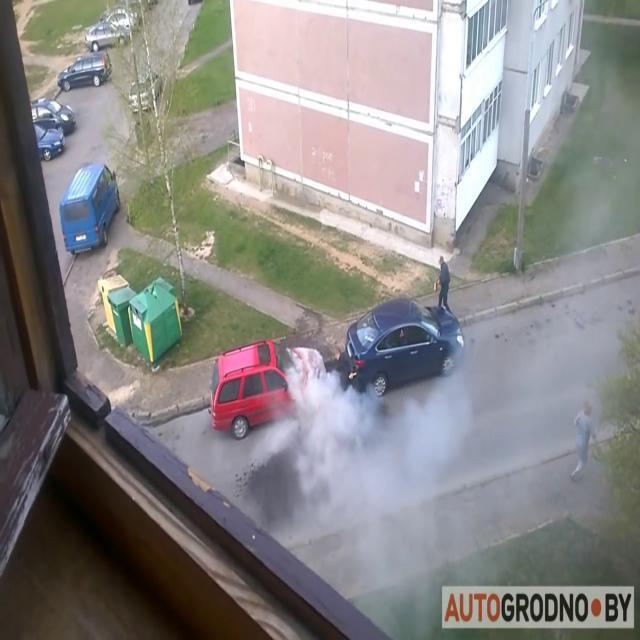Smoke: (290, 302, 620, 628)
